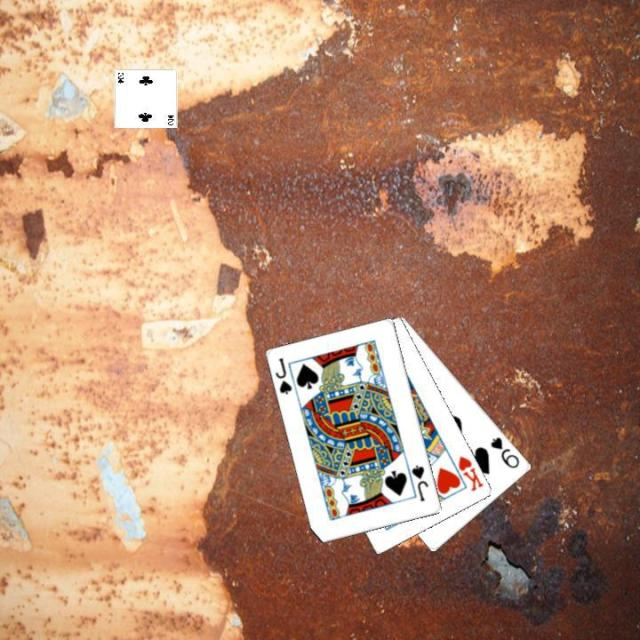9S: (487, 433, 522, 470)
JS: (408, 461, 430, 503), (272, 354, 294, 396)
KH: (454, 452, 486, 493)
